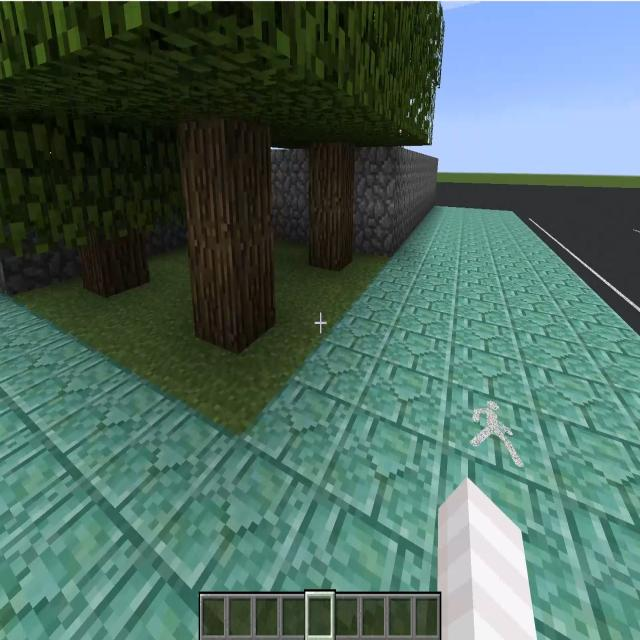road: (439, 184, 640, 333)
sidewalk: (0, 208, 640, 639)
